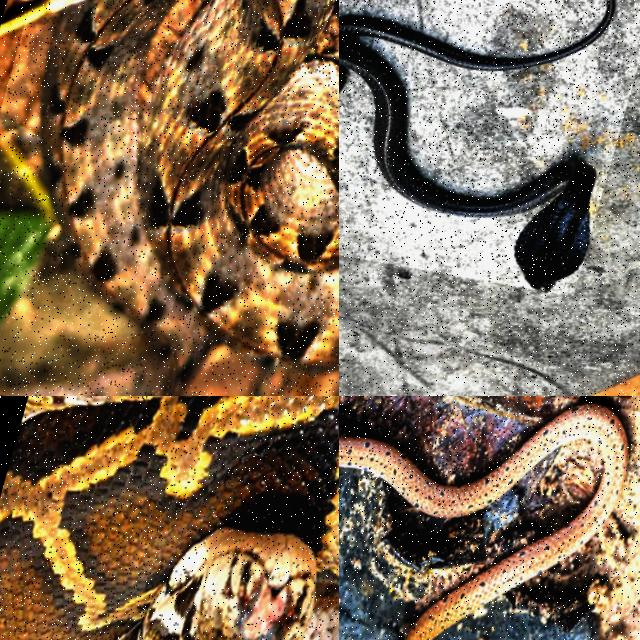Calliophis maculiceps: (339, 403, 627, 639)
Calloselasma rhodostoma: (0, 0, 338, 395)
Naja siamensis: (339, 0, 614, 290)
Python bivittatus: (0, 396, 338, 639)
snake: (0, 0, 338, 395), (0, 396, 338, 639), (339, 0, 614, 290), (339, 403, 627, 639)
